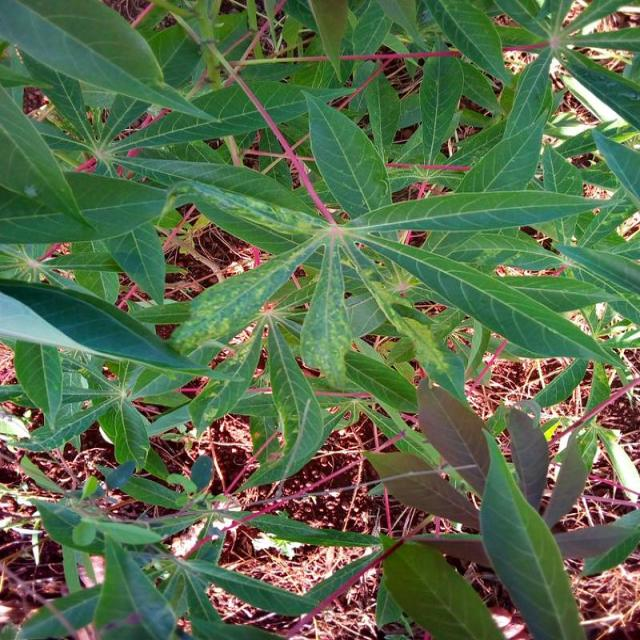Mosaico: (182, 167, 505, 378), (387, 391, 640, 562)
